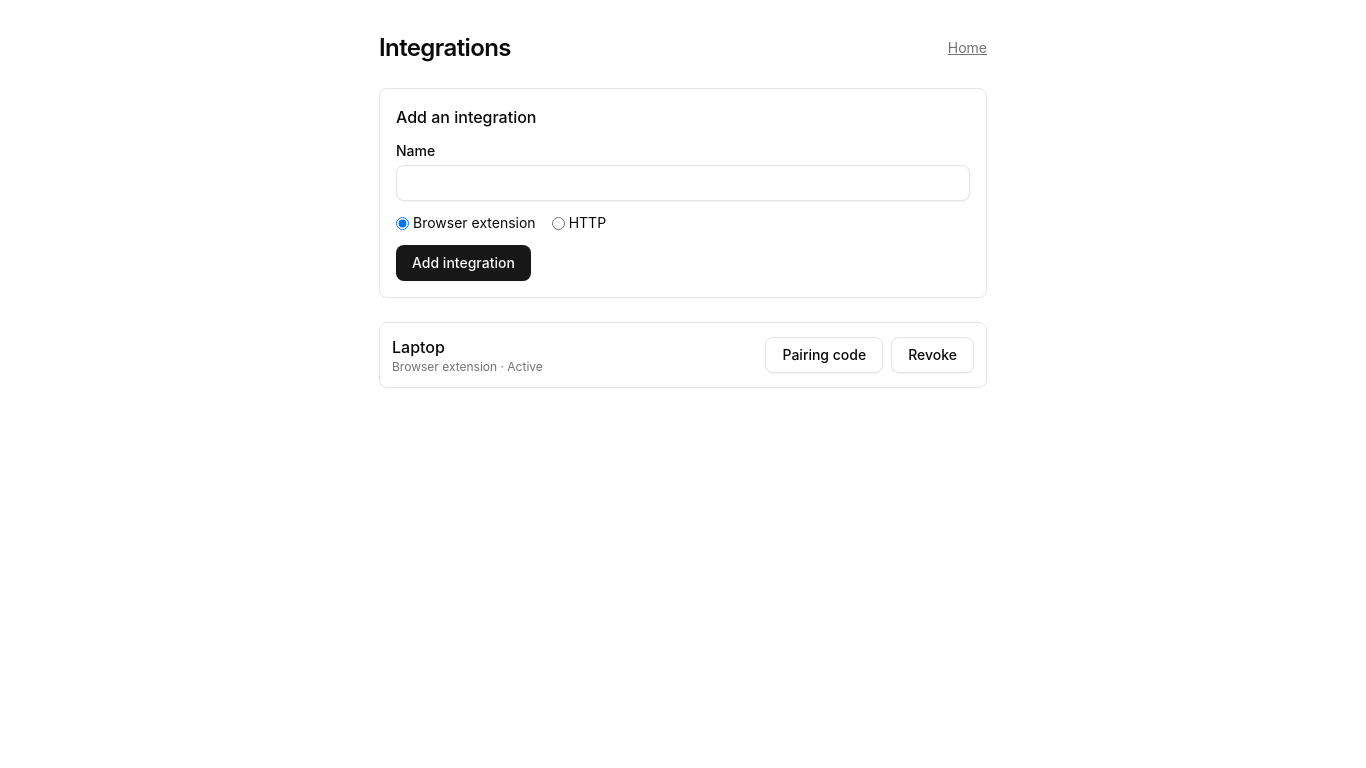
Scenario: integrations page › drops a revoked integration's pairing code from the mutation cache
The width and height of the screenshot is (1366, 768).
Click the button with aria-label "pairing code for laptop" at (824, 355), box [766,337,883,373]
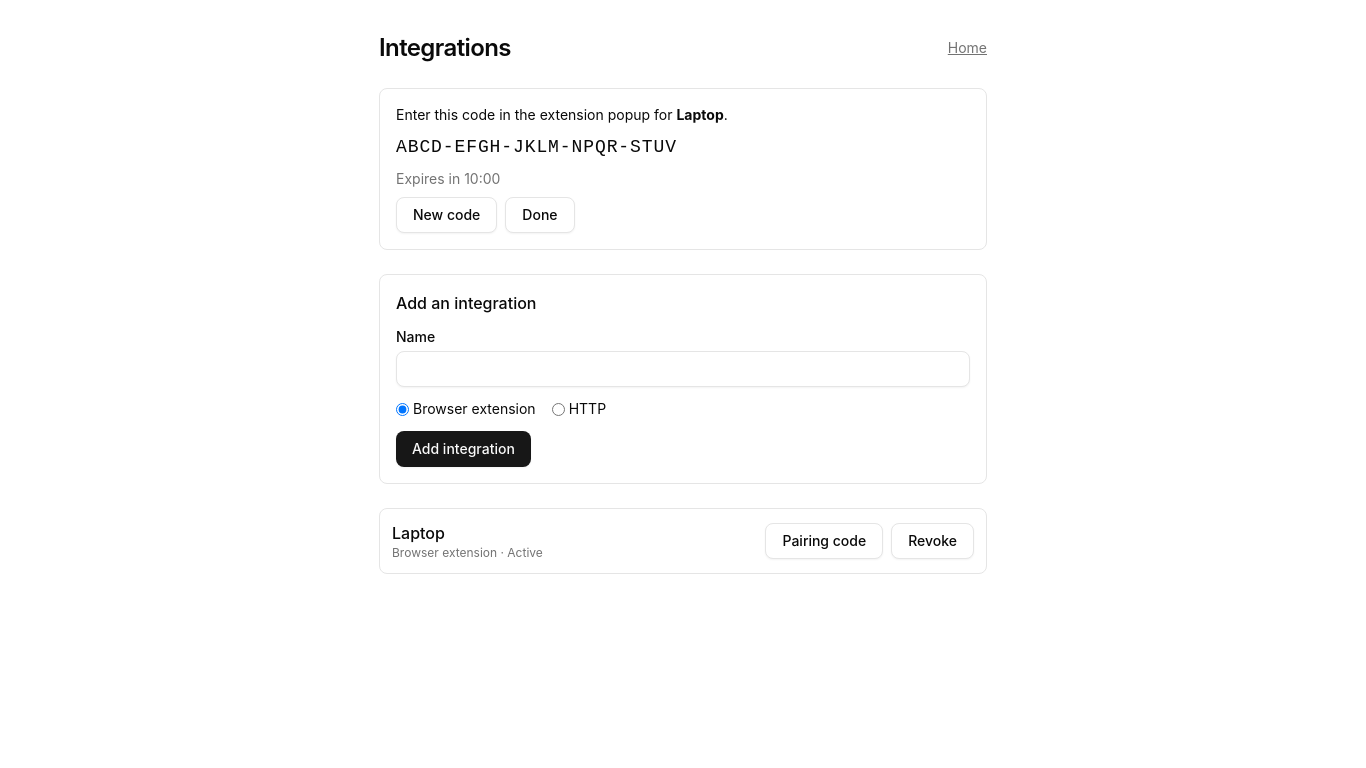
Expected: the text "ABCD-EFGH-JKLM-NPQR-STUV" is shown, [396,137,677,157]
Click the button with aria-label "revoke laptop" at (933, 541), box [891,523,974,559]
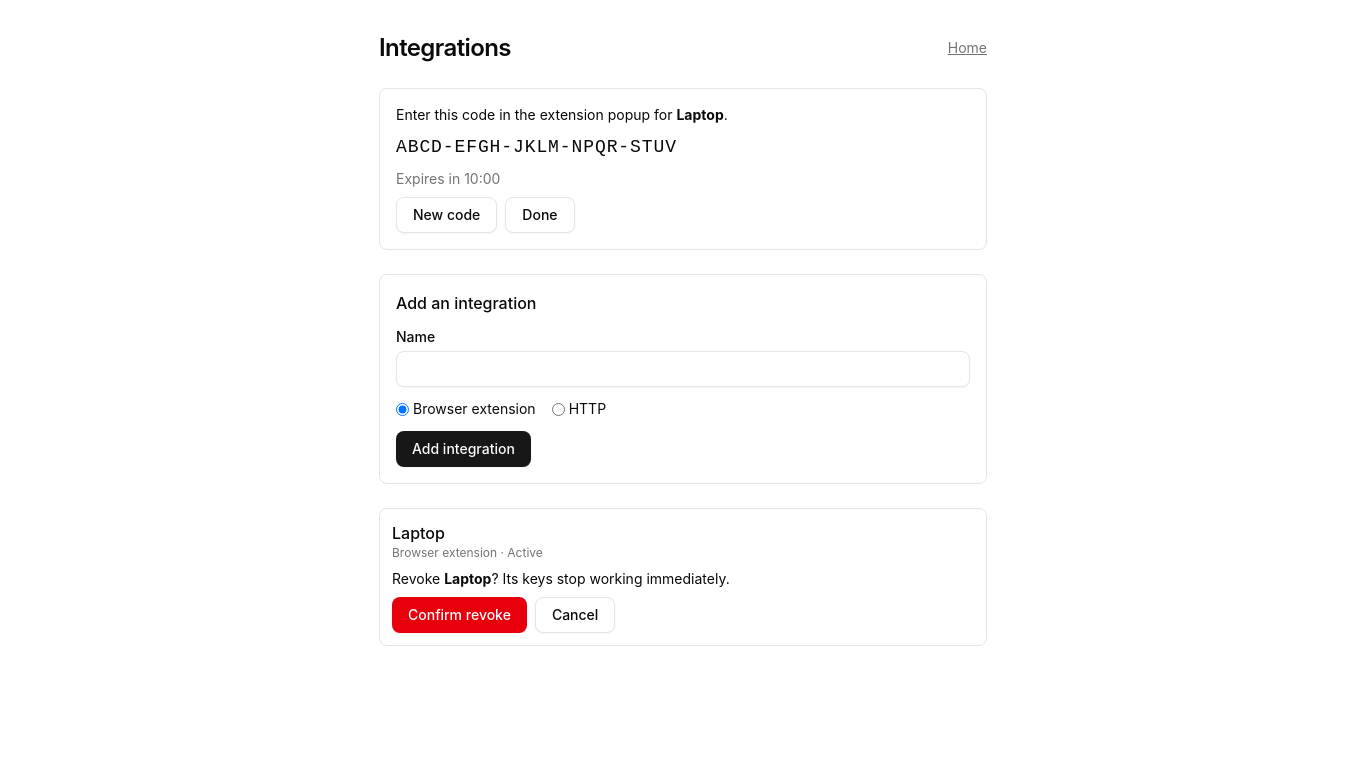
Click the button "Confirm revoke" at (459, 615), box [392,597,527,633]
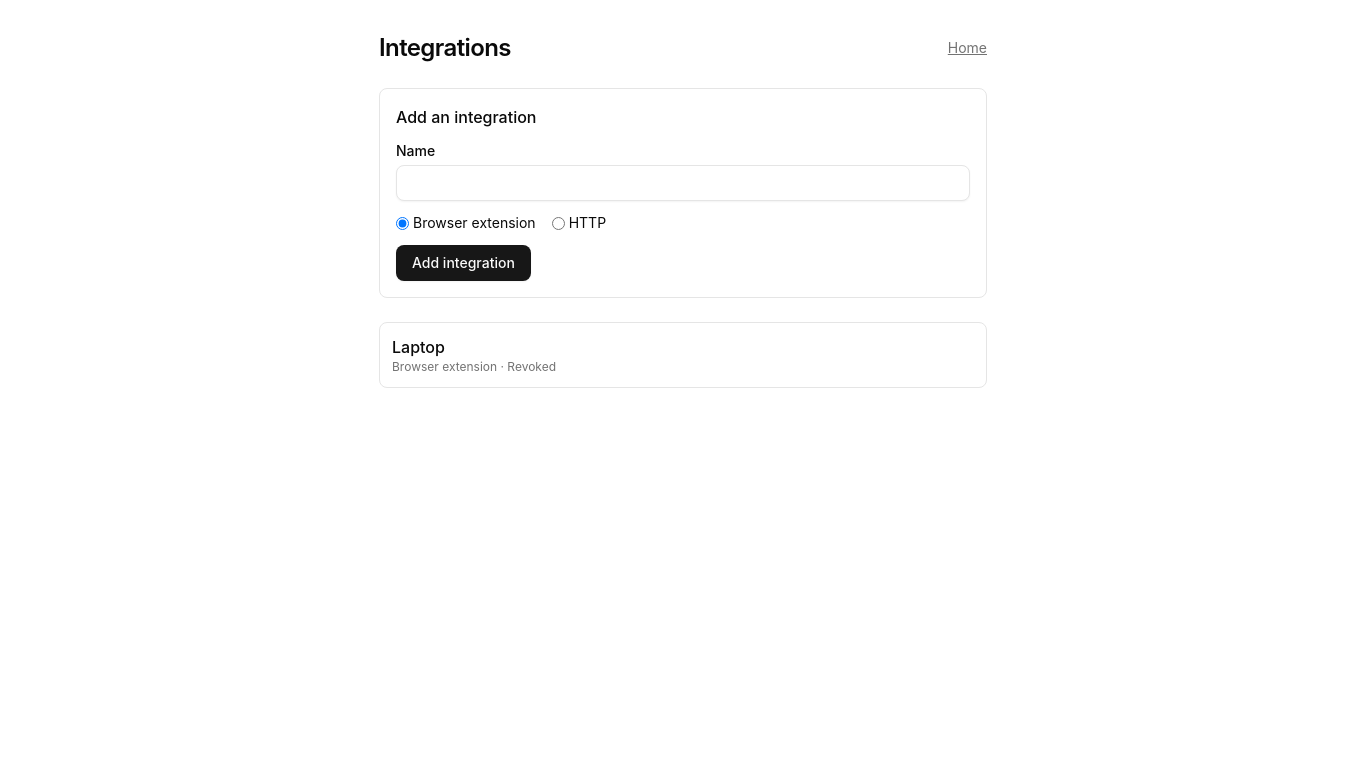
Expected: the text with test id "pairing-code" is gone
